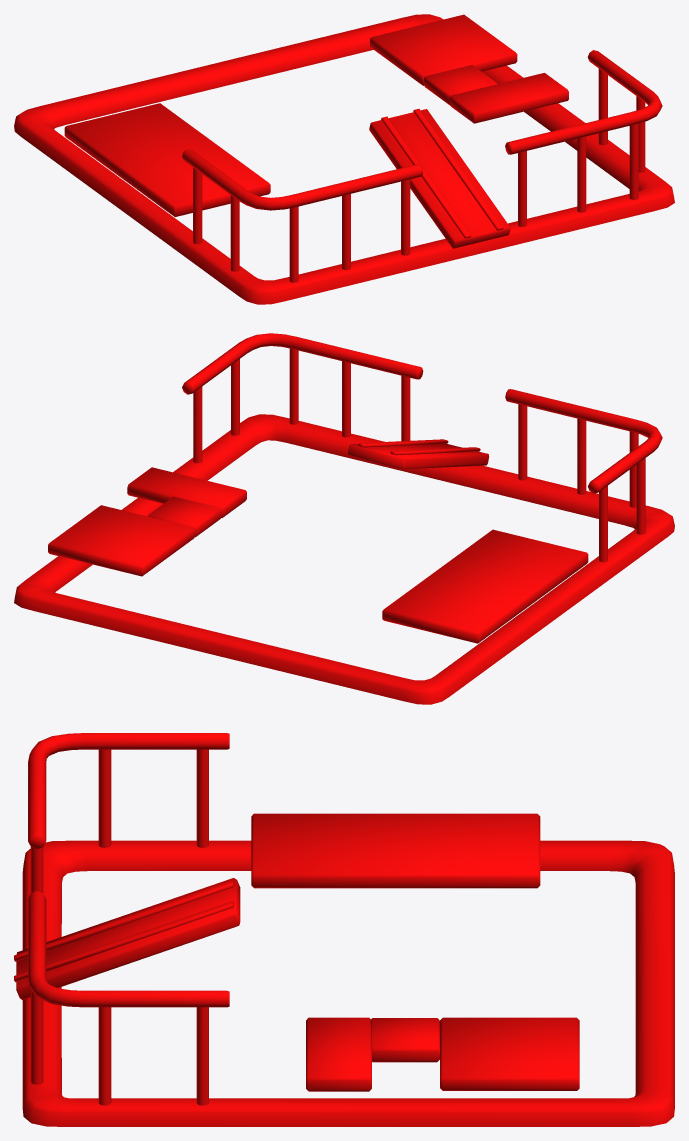
The model's file is Cty_Bld_Filter04_Mod.fbx.
3 views of the same model, one above another, from view 1: azimuth 30°, elevation 25°; view 2: azimuth 150°, elevation 25°; view 3: azimuth 270°, elevation 25° (orthographic). The views are drawn at different scales.
Visible parts, largest first — view 1: Cty_Bld_Filter04_Mod; view 2: Cty_Bld_Filter04_Mod; view 3: Cty_Bld_Filter04_Mod.
Boxes of the visible parts, x1,y1,x2,y2 form: Cty_Bld_Filter04_Mod: (14,14,674,304); Cty_Bld_Filter04_Mod: (14,333,674,704); Cty_Bld_Filter04_Mod: (14,733,674,1126).
Bounding box in the file's own units: 1545 × 1585 × 341.
